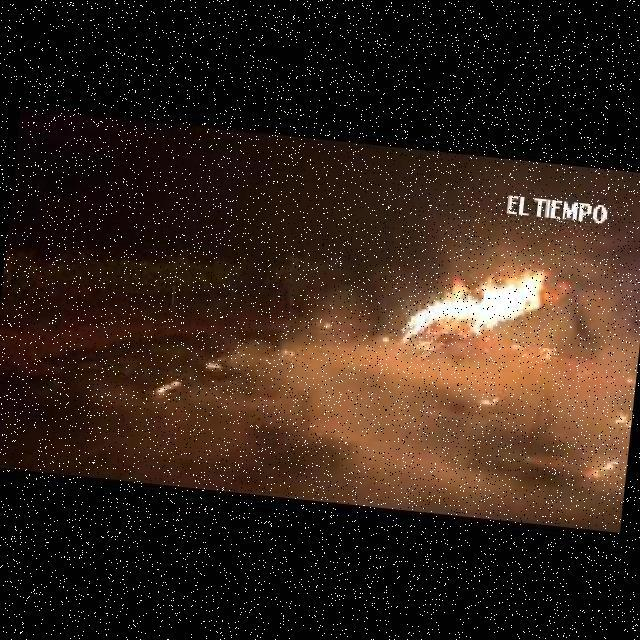Fire: (385, 254, 571, 360), (587, 455, 617, 480), (607, 405, 629, 427), (153, 378, 179, 396), (479, 393, 500, 403), (203, 358, 220, 370), (280, 349, 295, 356), (324, 321, 332, 326)
